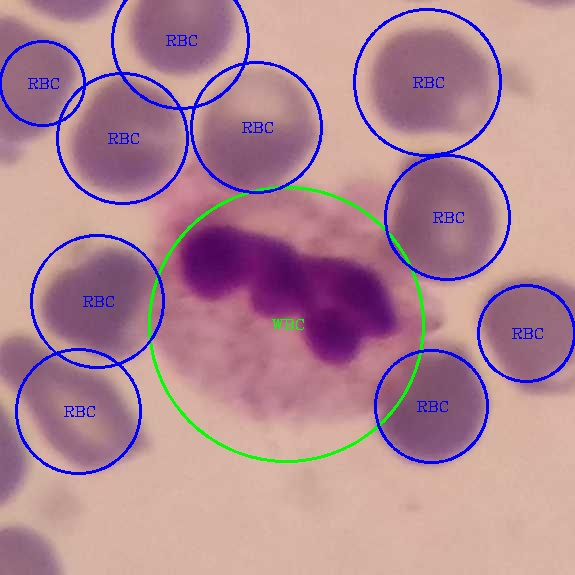RBC: (0, 325, 145, 468), (366, 331, 494, 475), (192, 64, 324, 200), (385, 147, 506, 287), (364, 18, 497, 144), (65, 75, 187, 206), (32, 237, 156, 362), (471, 272, 573, 400), (0, 7, 83, 162), (125, 0, 244, 79)
WBC: (148, 169, 439, 424)
